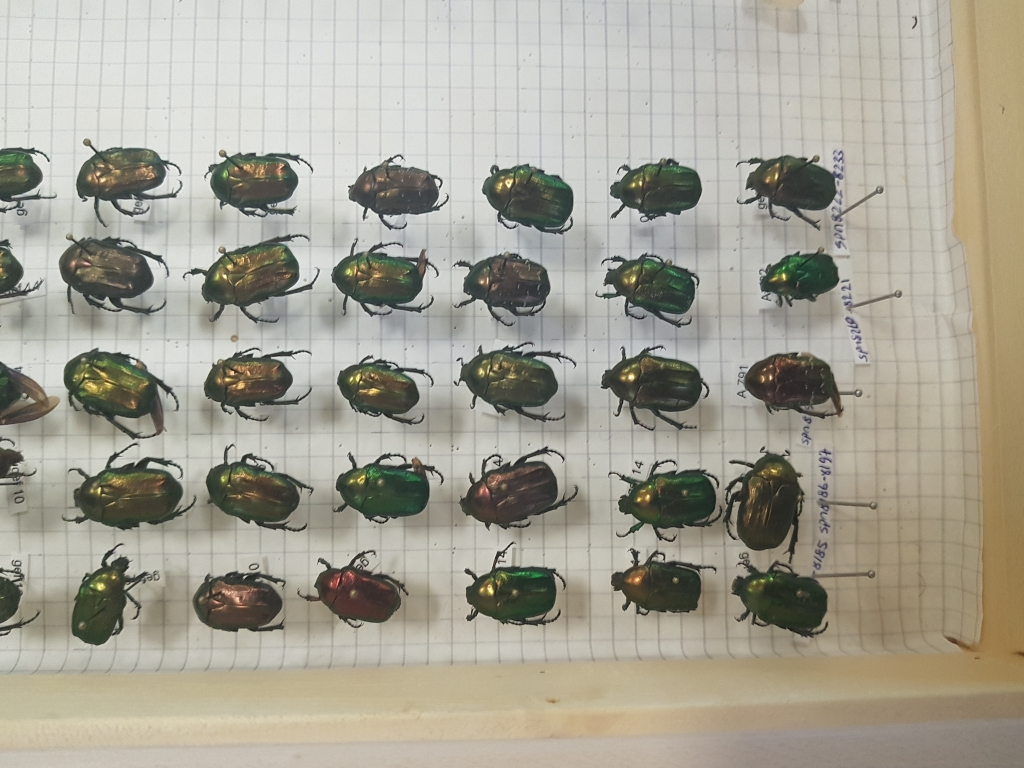Cetonia_aurata: (54, 335, 193, 443), (200, 223, 327, 332), (61, 442, 204, 534), (447, 328, 576, 428), (201, 439, 317, 535), (459, 448, 591, 531), (72, 133, 199, 219), (53, 233, 174, 323), (459, 540, 574, 634), (603, 459, 731, 542), (596, 341, 709, 434), (330, 234, 445, 323), (723, 450, 815, 561), (322, 352, 447, 433), (298, 551, 413, 639), (725, 552, 835, 643), (65, 543, 156, 650), (591, 251, 704, 336), (198, 344, 318, 423), (325, 447, 443, 522), (736, 351, 851, 425), (733, 151, 836, 233), (346, 152, 454, 230), (200, 146, 307, 220), (190, 563, 293, 639), (445, 252, 554, 323), (605, 155, 705, 231), (483, 160, 580, 237), (613, 546, 702, 619), (750, 243, 843, 310)
